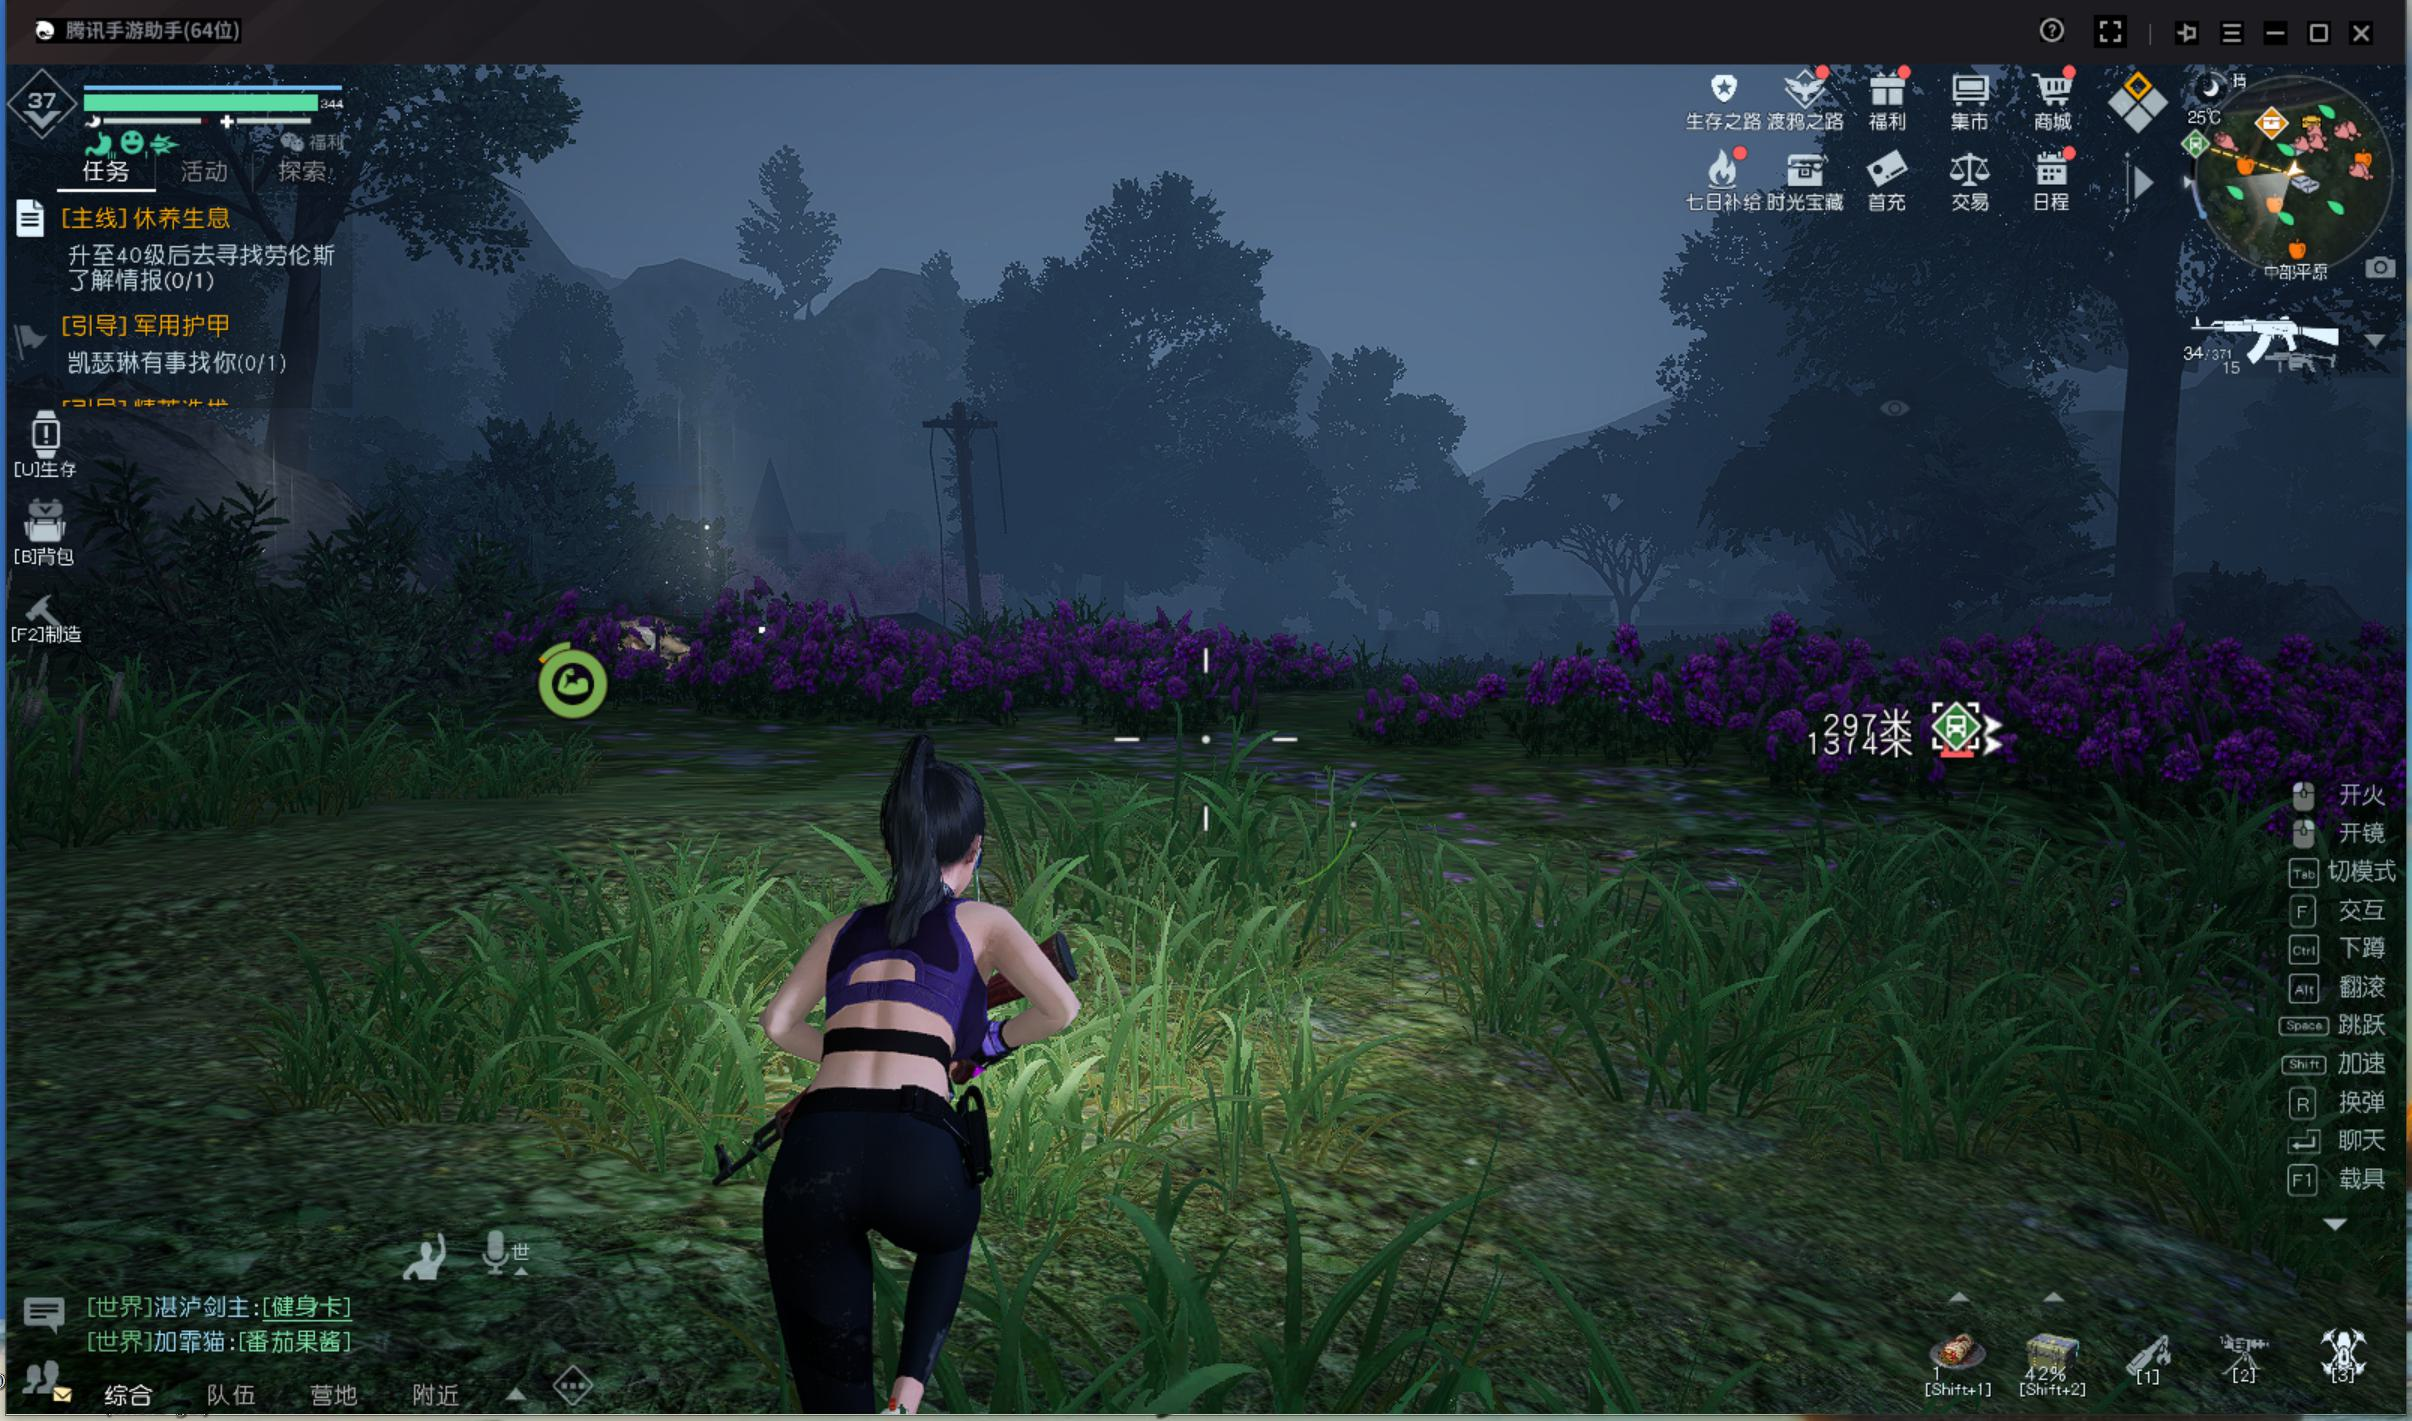tree: (2101, 328, 2187, 651), (259, 188, 333, 480)
